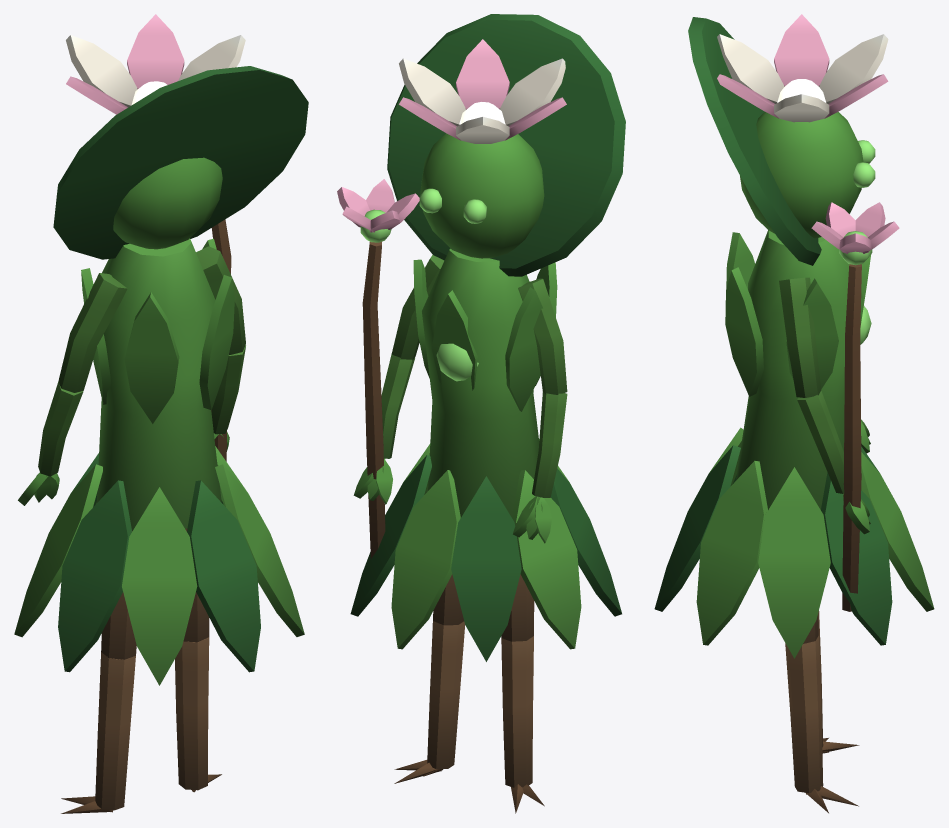
File: mob_bloom_tender.fbx
3 renders of one model, left to right at view 1: azimuth 30°, elevation 25°; view 2: azimuth 150°, elevation 25°; view 3: azimuth 270°, elevation 25°, orthographic. The views are drawn at different scales.
Visible parts, largest first — view 1: Body, Head, KneeL, KneeR, ArmL, ForearmL, ForearmR, ArmR, LegL, LegR; view 2: Body, Head, ForearmR, KneeR, KneeL, ForearmL, ArmL, ArmR, LegL, Body_Glow_Spring, LegR, Head_Glow_Spring (+1 smaller); view 3: Body, Head, ForearmR, KneeR, ArmR, Head_Glow_Spring, Head_Glow_Gold.
Part boxes in pixels (<box>): Body: <box>14,238,304,685</box>; Head: <box>53,14,308,259</box>; KneeL: <box>61,652,135,813</box>; KneeR: <box>175,637,221,792</box>; ArmL: <box>58,273,127,392</box>; ForearmL: <box>18,381,83,505</box>; ForearmR: <box>211,219,245,461</box>; ArmR: <box>196,246,245,354</box>; LegL: <box>101,531,136,659</box>; LegR: <box>183,528,209,642</box>; Body: <box>350,248,621,661</box>; Head: <box>387,14,625,276</box>; ForearmR: <box>337,179,419,558</box>; KneeR: <box>394,621,464,783</box>; KneeL: <box>501,636,544,813</box>; ForearmL: <box>513,392,567,543</box>; ArmL: <box>518,278,567,394</box>; ArmR: <box>391,255,444,360</box>; LegL: <box>501,574,534,641</box>; Body_Glow_Spring: <box>436,343,478,381</box>; LegR: <box>433,574,463,625</box>; Head_Glow_Spring: <box>419,188,486,223</box>; Body: <box>654,230,934,658</box>; Head: <box>688,14,888,265</box>; ForearmR: <box>797,202,899,611</box>; KneeR: <box>785,636,858,813</box>; ArmR: <box>779,277,821,397</box>; Head_Glow_Spring: <box>853,140,875,187</box>; Head_Glow_Gold: <box>777,79,826,102</box>.
Size of the model in its own units: 193 by 565 by 192.
Materials: 3 (1 with a texture image).
